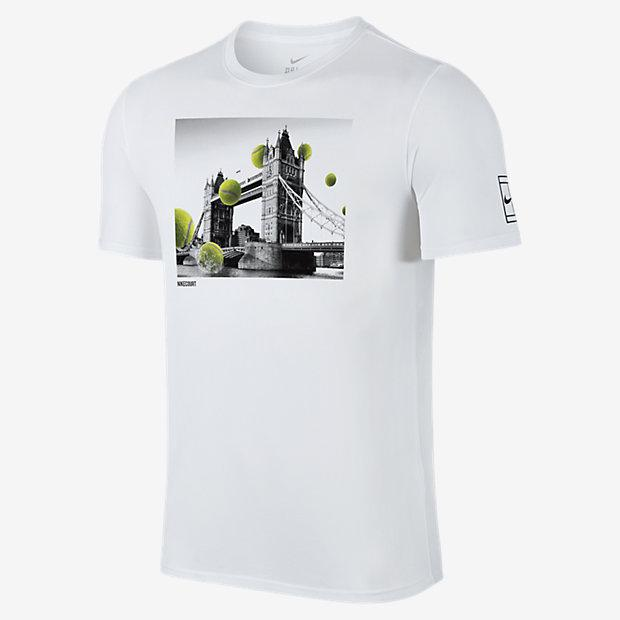teeshirt: (88, 7, 548, 602)
